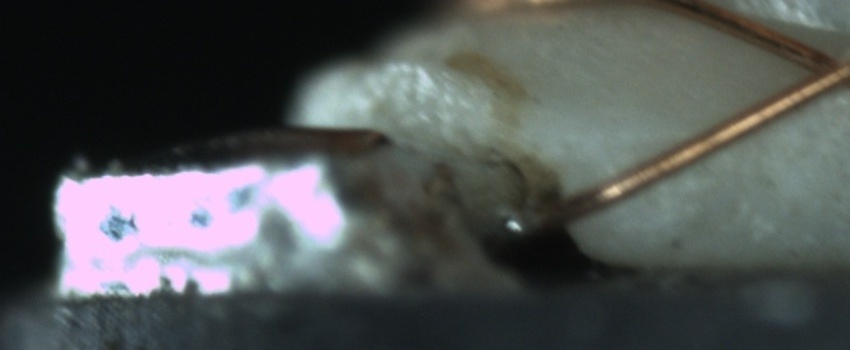CL: (774, 29, 847, 110)
